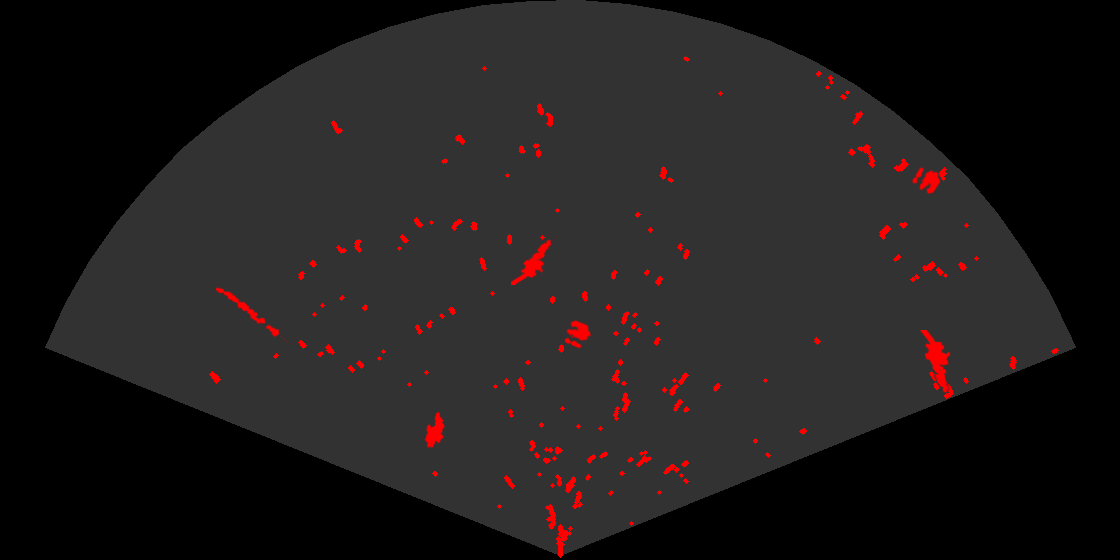AUV: (423, 410, 446, 450)
ball: (910, 166, 942, 196), (563, 319, 593, 350)
chain: (214, 286, 290, 343)
frogman: (511, 236, 559, 285), (919, 330, 952, 394)
